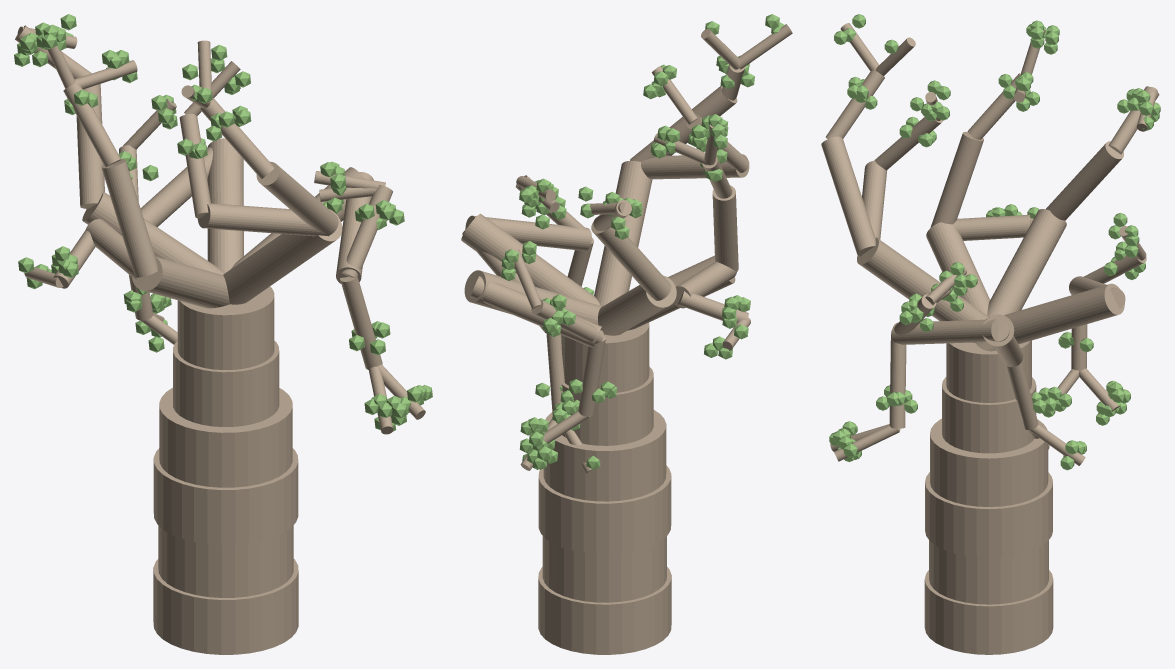
3 views of the same model, side by side, from view 1: azimuth 30°, elevation 25°; view 2: azimuth 150°, elevation 25°; view 3: azimuth 270°, elevation 25° (orthographic). The views are drawn at different scales.
Visible parts, largest first — view 1: BaobabTrunk_Seg3, BaobabTrunk_Seg2, BaobabTrunk_Seg0, BaobabTrunk_Seg1, BaobabTrunk_Seg4, BaobabTrunk_Seg5, BaobabBranch_D0.004, BaobabBranch_D0.001, BaobabBranch_D1.005, BaobabBranch_D0.003, BaobabBranch_D1.007, BaobabBranch_D1.006 (+16 smaller); view 2: BaobabTrunk_Seg2, BaobabTrunk_Seg0, BaobabTrunk_Seg3, BaobabTrunk_Seg1, BaobabTrunk_Seg5, BaobabTrunk_Seg4, BaobabBranch_D0, BaobabBranch_D0.004, BaobabBranch_D0.002, BaobabBranch_D1.003, BaobabBranch_D1, BaobabBranch_D1.002 (+19 smaller); view 3: BaobabTrunk_Seg0, BaobabTrunk_Seg2, BaobabTrunk_Seg3, BaobabTrunk_Seg1, BaobabTrunk_Seg4, BaobabTrunk_Seg5, BaobabBranch_D0.002, BaobabBranch_D0.001, BaobabBranch_D0.004, BaobabBranch_D1.006, BaobabBranch_D1.005, BaobabBranch_D0.003 (+20 smaller).
Boxes of the visible parts, x1,y1,x2,y2 form: BaobabTrunk_Seg3: [159, 387, 292, 487]; BaobabTrunk_Seg2: [153, 448, 298, 544]; BaobabTrunk_Seg0: [153, 559, 298, 654]; BaobabTrunk_Seg1: [158, 525, 293, 597]; BaobabTrunk_Seg4: [173, 341, 279, 426]; BaobabTrunk_Seg5: [177, 286, 274, 369]; BaobabBranch_D0.004: [223, 209, 342, 304]; BaobabBranch_D0.001: [207, 138, 243, 272]; BaobabBranch_D1.005: [101, 159, 157, 277]; BaobabBranch_D0.003: [131, 256, 229, 308]; BaobabBranch_D1.007: [197, 203, 329, 236]; BaobabBranch_D1.006: [256, 161, 338, 235]; BaobabTrunk_Seg2: [538, 465, 671, 553]; BaobabTrunk_Seg0: [538, 567, 671, 654]; BaobabTrunk_Seg3: [543, 410, 666, 501]; BaobabTrunk_Seg1: [542, 536, 666, 602]; BaobabTrunk_Seg5: [561, 322, 649, 392]; BaobabTrunk_Seg4: [561, 366, 653, 445]; BaobabBranch_D0: [461, 213, 600, 305]; BaobabBranch_D0.004: [594, 161, 652, 306]; BaobabBranch_D0.002: [598, 275, 676, 335]; BaobabBranch_D1.003: [591, 222, 671, 300]; BaobabBranch_D1: [465, 215, 591, 250]; BaobabBranch_D1.002: [470, 276, 602, 347]; BaobabTrunk_Seg0: [924, 570, 1053, 654]; BaobabTrunk_Seg2: [925, 472, 1052, 557]; BaobabTrunk_Seg3: [930, 418, 1048, 506]; BaobabTrunk_Seg1: [929, 540, 1048, 604]; BaobabTrunk_Seg4: [942, 377, 1036, 453]; BaobabTrunk_Seg5: [946, 340, 1031, 402]; BaobabBranch_D0.002: [987, 209, 1066, 316]; BaobabBranch_D0.001: [1004, 283, 1124, 344]; BaobabBranch_D0.004: [857, 237, 988, 342]; BaobabBranch_D1.006: [821, 136, 875, 255]; BaobabBranch_D1.005: [930, 131, 983, 227]; BaobabBranch_D0.003: [926, 222, 989, 314].
Size of the model in its own units: 6.31 by 11.67 by 6.33.
